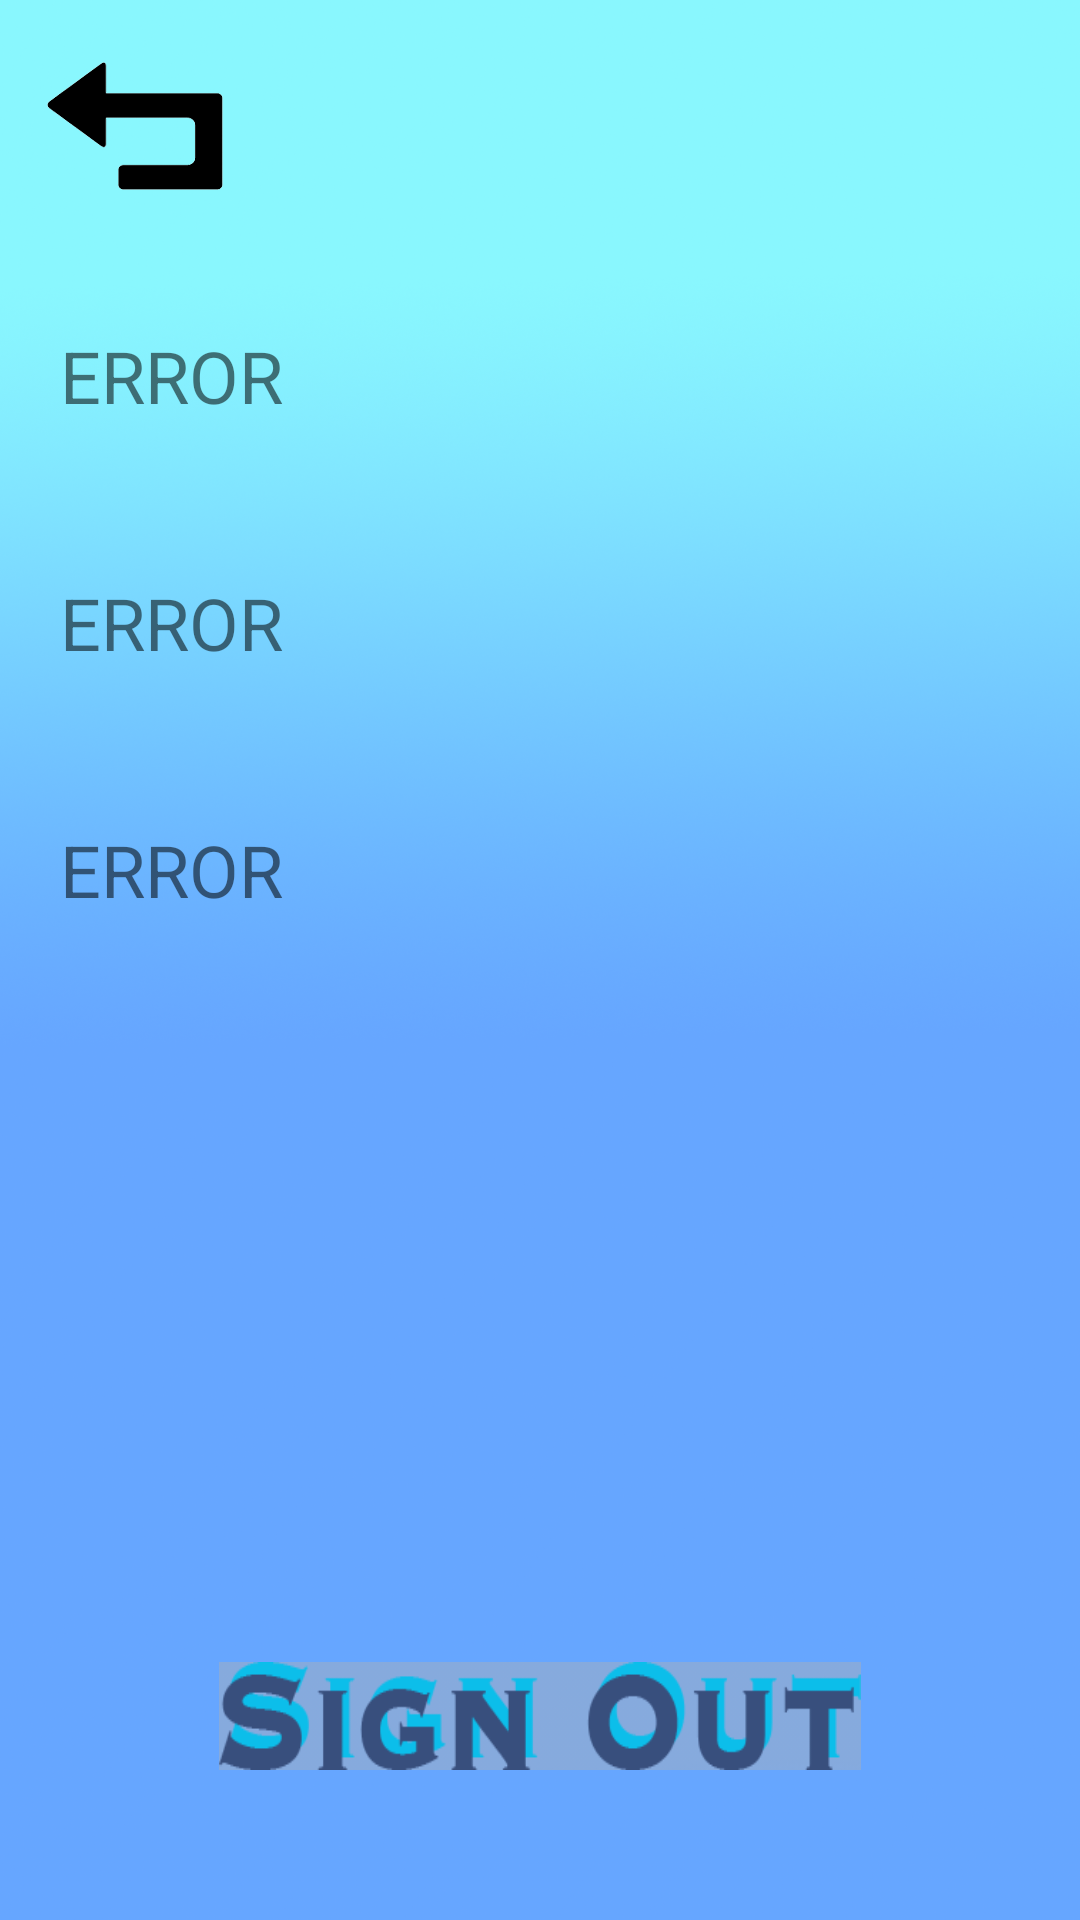

Where to tap for icons on this 1080px x 1920px app screen, as point (x, y):
backicon: point (135, 126)
